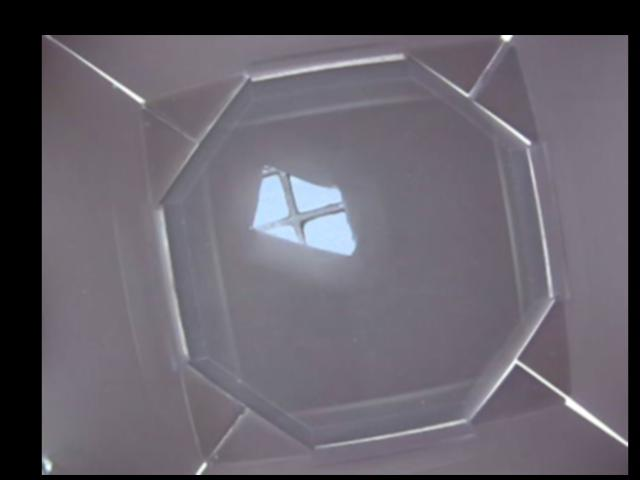China: (251, 163, 357, 256)
